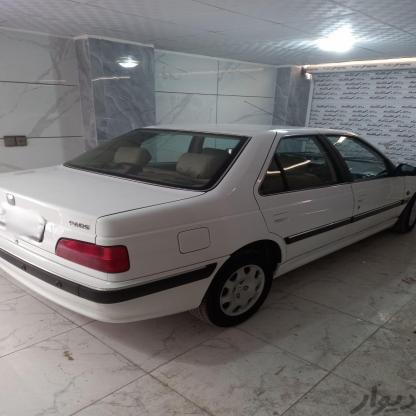Car: (0, 111, 416, 330)
